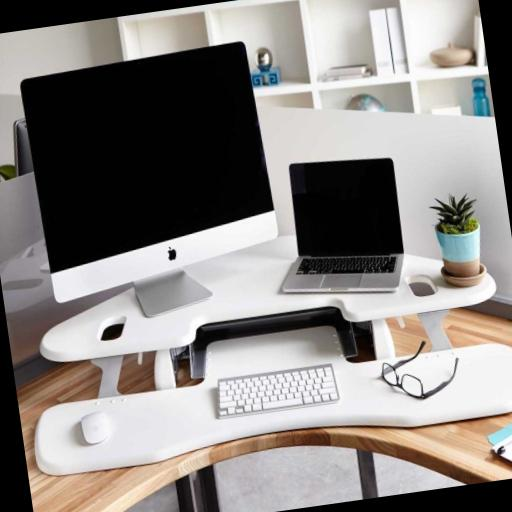desk: (12, 202, 512, 479), (13, 298, 512, 512)
